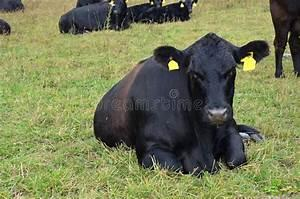cow: (92, 31, 270, 178)
